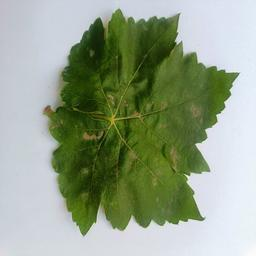Powdery-Mildew: (121, 149, 155, 184), (150, 191, 180, 219), (137, 97, 170, 119), (80, 123, 108, 144), (167, 145, 188, 172), (189, 101, 210, 127), (76, 192, 89, 217), (81, 164, 92, 175)
